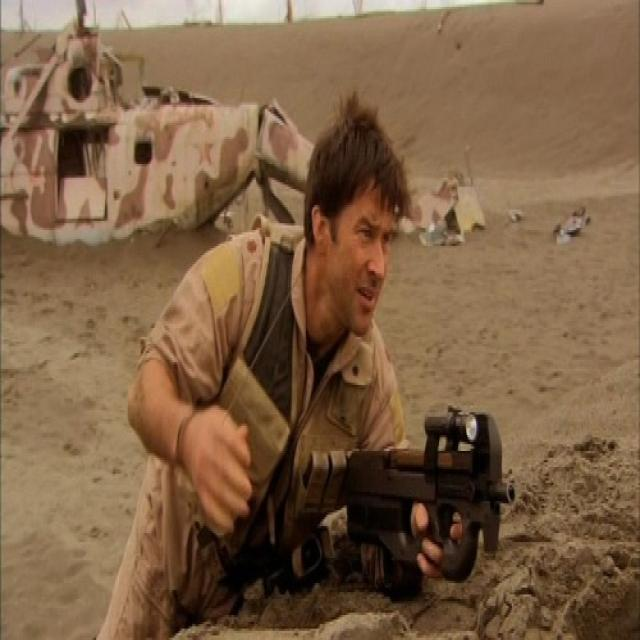rifle: (347, 408, 520, 601)
